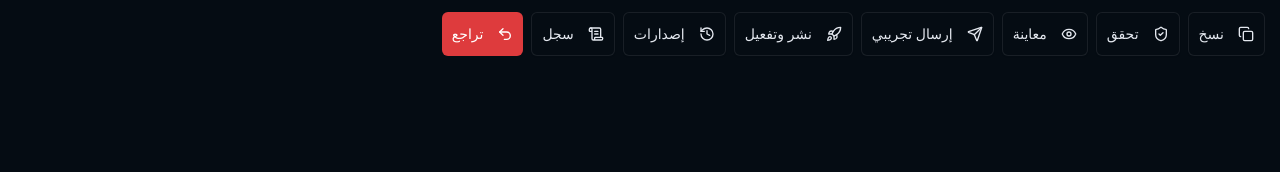
Test: NotificationTemplateActions › أخطاء غير عربية من الخادم تُترجم إلى رسالة عربية
The width and height of the screenshot is (1280, 172).
Step 1. Click the button "إصدارات" → (674, 34), box [623,12,726,56]
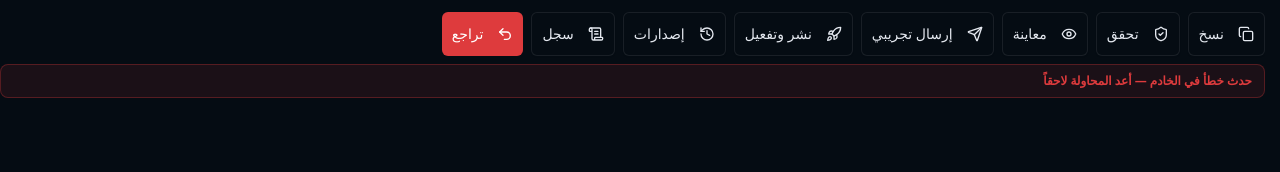
Expected: the message "حدث خطأ في الخادم — أعد المحاولة لاحقاً" is shown, [0,64,1265,98]
